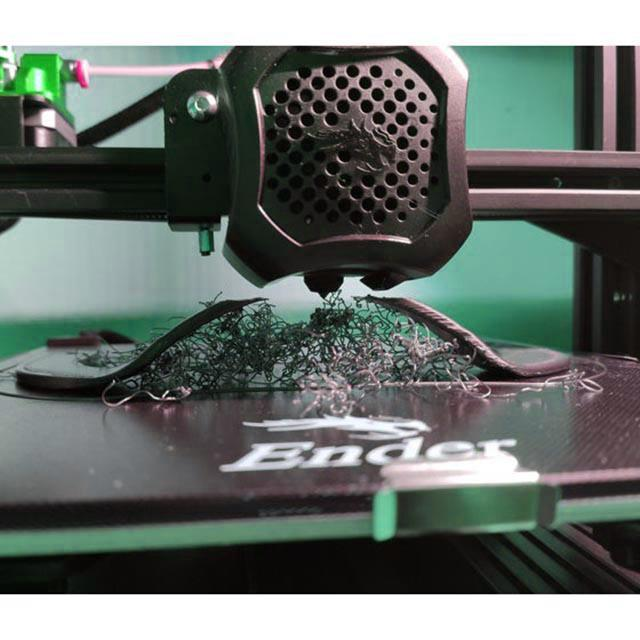Spaghetti: (100, 292, 493, 406), (519, 369, 605, 395)
